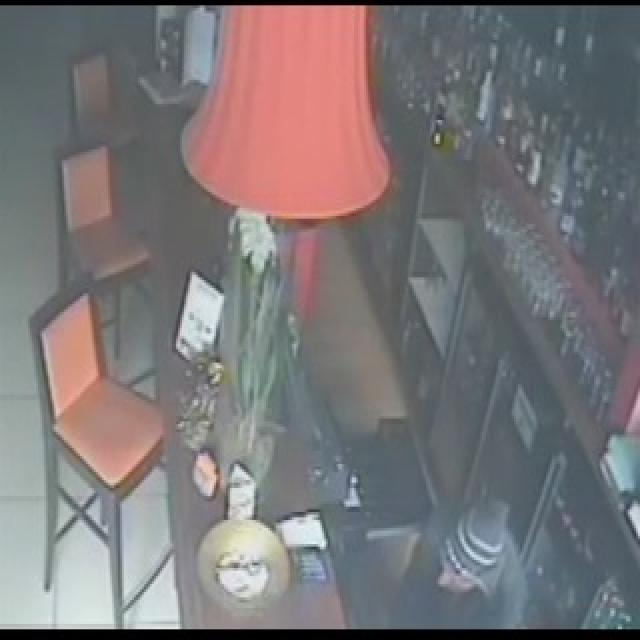thief: (419, 502, 536, 610)
